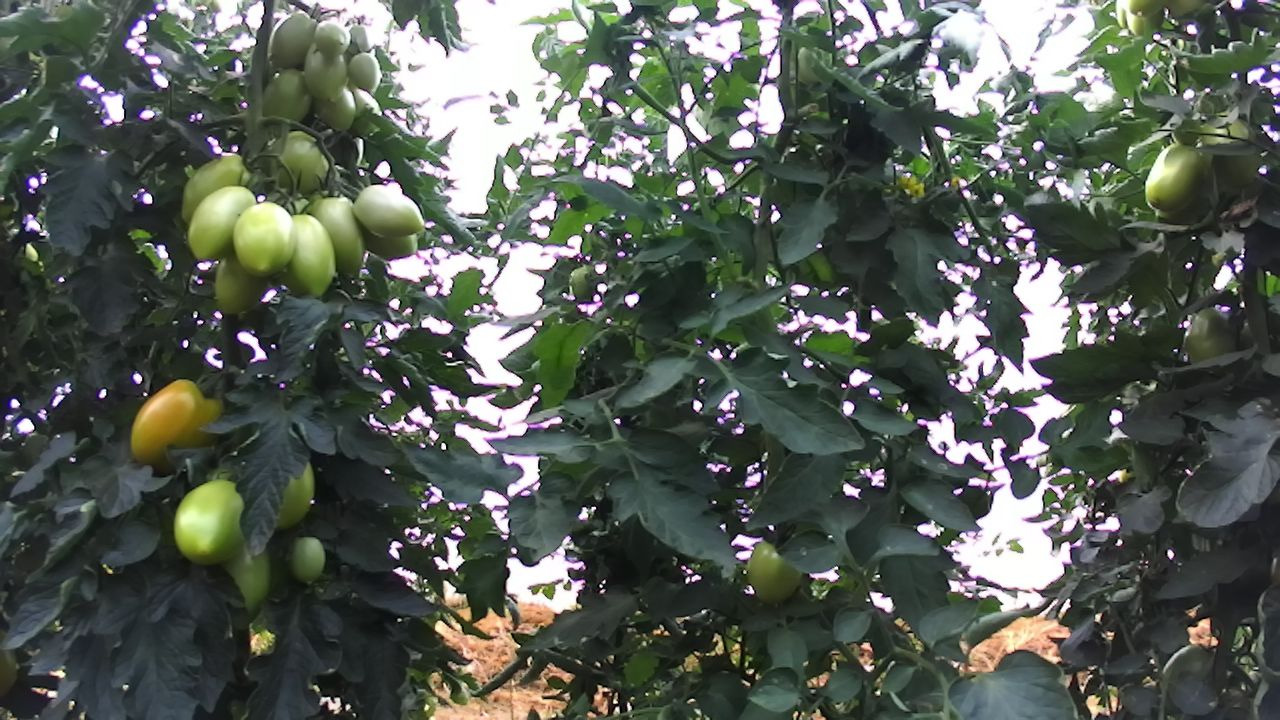tomato: (122, 374, 231, 482), (300, 189, 376, 287), (170, 476, 247, 570), (172, 146, 257, 229), (227, 197, 298, 280), (187, 183, 258, 264), (282, 207, 338, 299), (252, 60, 327, 126), (348, 179, 427, 240), (209, 247, 273, 321), (1143, 141, 1205, 216), (744, 537, 806, 611), (1179, 303, 1243, 367), (261, 10, 325, 72), (298, 38, 351, 104), (308, 76, 360, 136), (286, 533, 328, 587), (312, 17, 352, 60), (346, 51, 383, 92)
